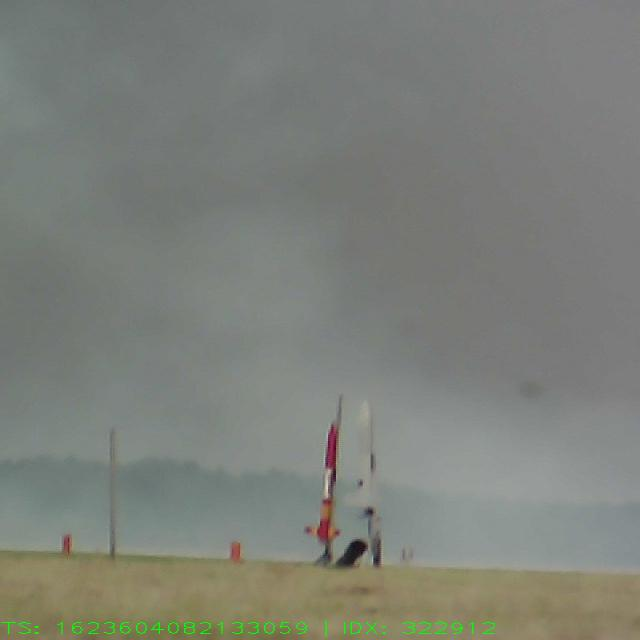Rocket: (302, 412, 342, 545), (346, 397, 386, 514)
